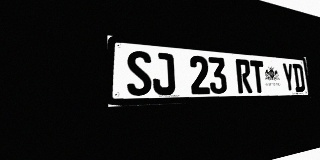2: (189, 55, 210, 94)
3: (208, 57, 227, 94)
D: (292, 63, 305, 92)
J: (152, 52, 175, 95)
R: (235, 59, 253, 93)
S: (126, 50, 152, 96)
T: (250, 60, 266, 93)
Y: (282, 63, 295, 92)
